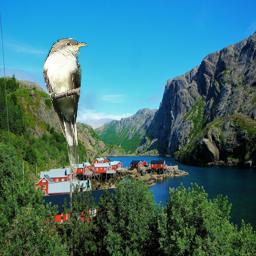Cuckoo: (43, 37, 88, 176)
